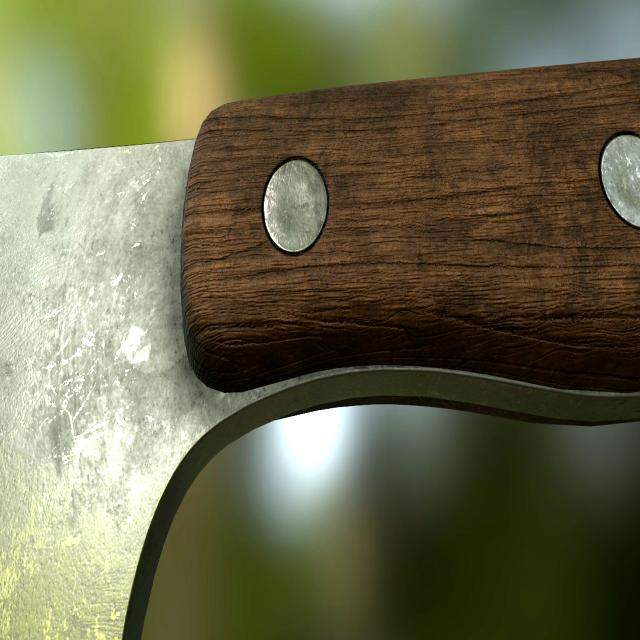cleaver: (0, 47, 640, 640)
